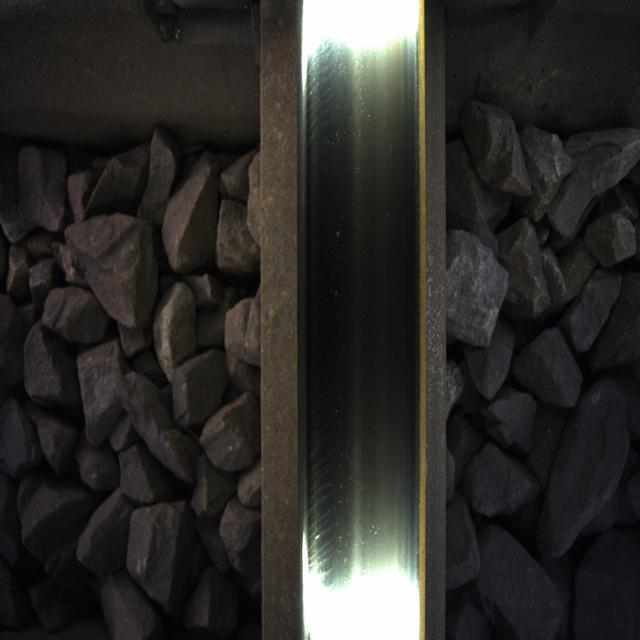break: (303, 38, 412, 592)
